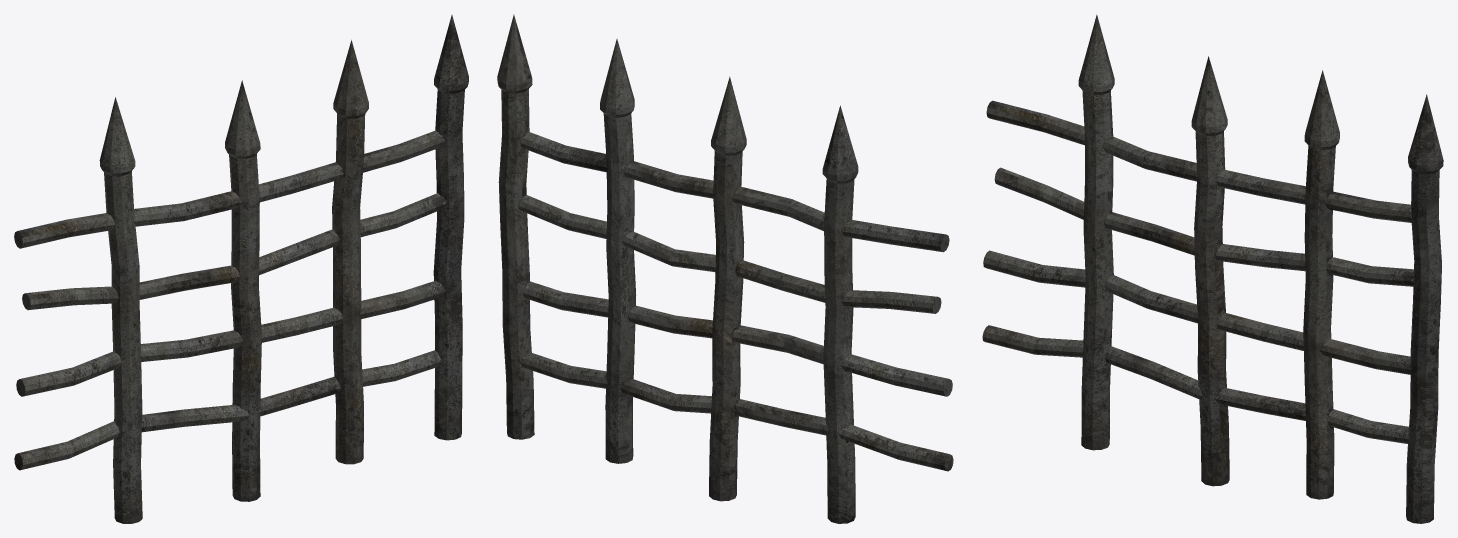
The model's file is fence.fbx.
3 renders of one model, left to right at view 1: azimuth 30°, elevation 25°; view 2: azimuth 150°, elevation 25°; view 3: azimuth 330°, elevation 25°, orthographic.
Parts seen in each view (by area): view 1: Cylinder; view 2: Cylinder; view 3: Cylinder.
Boxes of the visible parts, left/top/right/bottom form: Cylinder: left=14, top=15, right=468, bottom=523; Cylinder: left=497, top=14, right=953, bottom=523; Cylinder: left=982, top=14, right=1443, bottom=523.
Size of the model in its own units: 3679 by 3380 by 344.
1 material, 1 textured.
